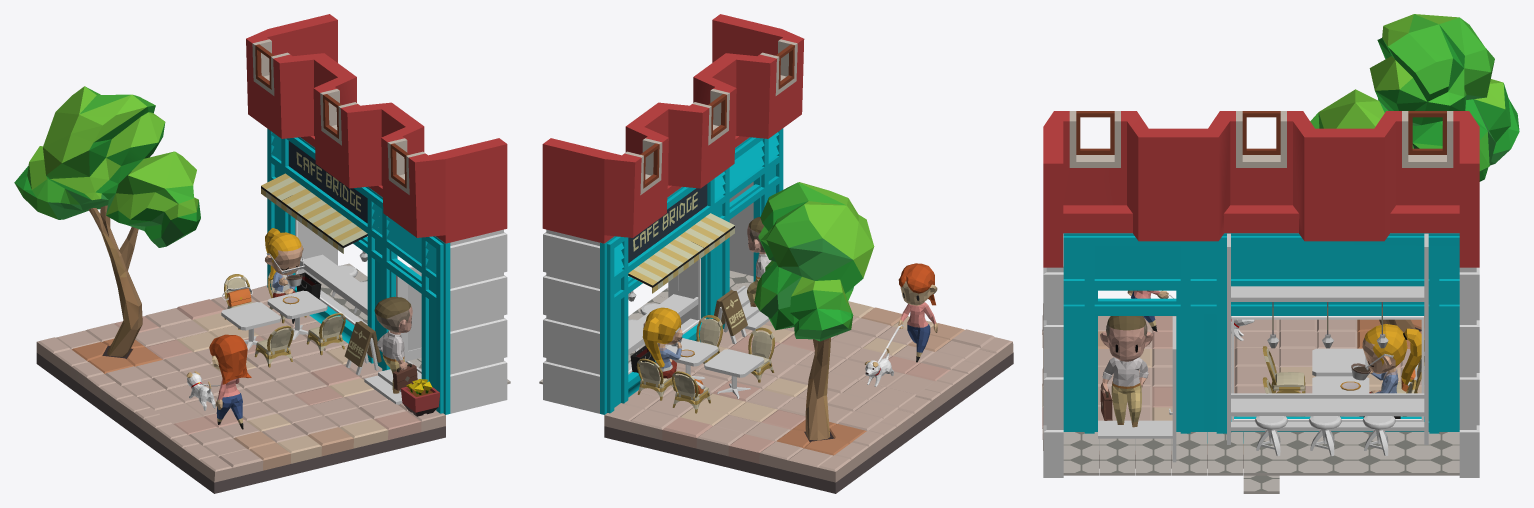
File: 0005_cafeSanfrancisco.fbx
3 renders of one model, left to right at view 1: azimuth 30°, elevation 25°; view 2: azimuth 150°, elevation 25°; view 3: azimuth 270°, elevation 25°, orthographic. The views are drawn at different scales.
Parts seen in each view (by area): view 1: SlidewalkBlock, Exterior_Building01, Tree_Leaves, Exterior_Building02, Enterance02, Enterance01, Tree, Interior_Table, Exterior_Table (×2), Enterance01_Sighn, Woman02_Head, Woman01_Head (+9 smaller); view 2: SlidewalkBlock, Exterior_Building01, Tree_Leaves, Exterior_Building02 (×2), Enterance01, Enterance02, Exterior_Chair_Back (×4), Tree, Interior_Table, Enterance01_Sighn, Exterior_Table (×2), Woman01_Head (+4 smaller); view 3: Exterior_Building01, Enterance01, Enterance02, interior_Tile (×12), Tree_Leaves, SlidewalkBlock, Interior_Table, Exterior_Building02 (×2), Interior_Chair (×3), Woman01_Head, Exterior_Table (×2), Man_Head (+7 smaller).
Part boxes in pixels (<box>): SlidewalkBlock: <box>36,285,445,493</box>; Exterior_Building01: <box>246,14,507,243</box>; Tree_Leaves: <box>14,86,200,247</box>; Exterior_Building02: <box>450,229,507,413</box>; Enterance02: <box>377,196,450,414</box>; Enterance01: <box>267,128,380,366</box>; Tree: <box>89,205,142,356</box>; Interior_Table: <box>298,221,397,325</box>; Exterior_Table (×2): <box>221,290,327,330</box>; Enterance01_Sighn: <box>288,141,367,223</box>; Woman02_Head: <box>209,334,251,384</box>; Woman01_Head: <box>265,228,303,280</box>; SlidewalkBlock: <box>604,301,1013,493</box>; Exterior_Building01: <box>542,14,804,243</box>; Tree_Leaves: <box>754,182,874,341</box>; Exterior_Building02 (×2): <box>543,182,753,413</box>; Enterance01: <box>600,175,719,414</box>; Enterance02: <box>717,128,783,329</box>; Exterior_Chair_Back (×4): <box>636,315,774,397</box>; Tree: <box>805,337,830,440</box>; Interior_Table: <box>628,260,698,370</box>; Enterance01_Sighn: <box>628,184,707,262</box>; Exterior_Table (×2): <box>665,338,764,377</box>; Woman01_Head: <box>642,307,682,367</box>; Exterior_Building01: <box>1043,111,1479,267</box>; Enterance01: <box>1203,233,1459,443</box>; Enterance02: <box>1063,233,1203,433</box>; interior_Tile (×12): <box>1063,432,1459,493</box>; Tree_Leaves: <box>1310,14,1519,181</box>; SlidewalkBlock: <box>1042,303,1424,468</box>; Interior_Table: <box>1227,233,1428,444</box>; Exterior_Building02 (×2): <box>1043,234,1479,477</box>; Interior_Chair (×3): <box>1254,416,1395,456</box>; Woman01_Head: <box>1362,324,1424,384</box>; Exterior_Table (×2): <box>1312,348,1369,393</box>; Man_Head: <box>1100,316,1153,361</box>.
Bounding box in the file's own units: 10.37 × 8.65 × 10.94.
